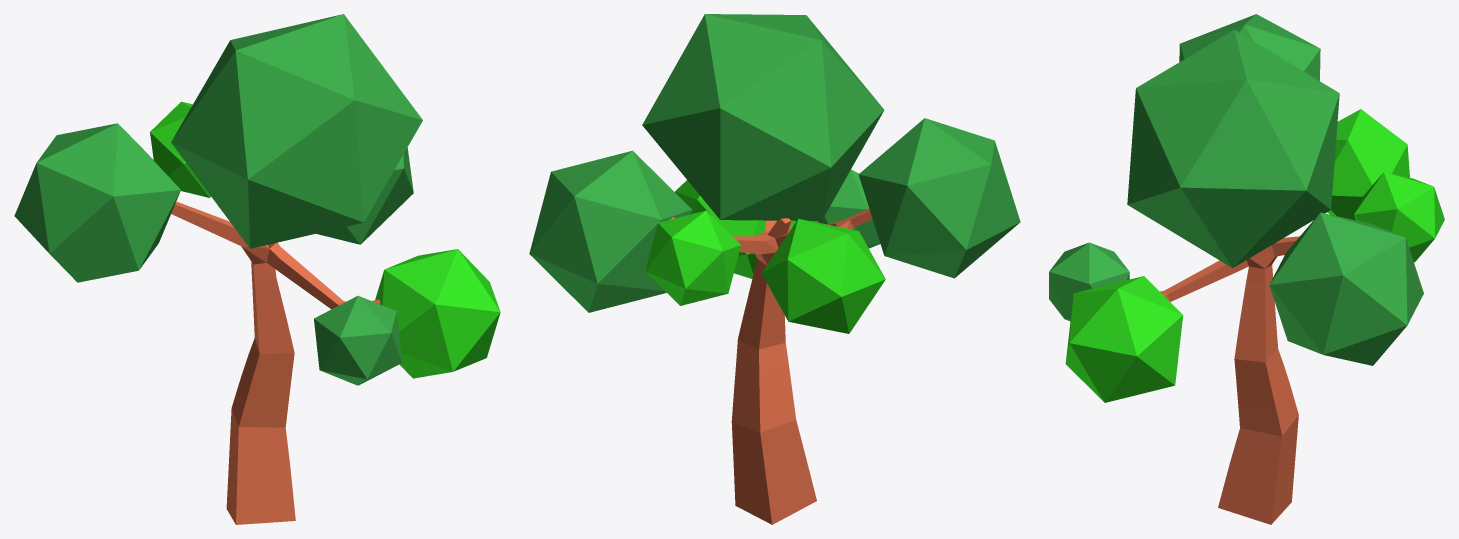
Rendered from arvore1.glb.
The picture shows the model from 3 angles, left to right: view 1: azimuth 30°, elevation 25°; view 2: azimuth 150°, elevation 25°; view 3: azimuth 270°, elevation 25°; orthographic projection. The views are drawn at different scales.
Parts seen in each view (by area): view 1: Icosphere.006, Icosphere.005, Arvore 2, Icosphere.001, Icosphere, Icosphere.002, Icosphere.003; view 2: Icosphere.006, Icosphere.005, Icosphere.002, Arvore 2, Icosphere.004, Icosphere.003, Icosphere.001, Icosphere; view 3: Icosphere.006, Icosphere.002, Arvore 2, Icosphere.001, Icosphere.004, Icosphere.003, Icosphere, Icosphere.005.
Boxes of the visible parts, left/top/right/bottom form: Icosphere.006: left=171, top=14, right=422, bottom=248; Icosphere.005: left=14, top=123, right=180, bottom=282; Arvore 2: left=171, top=201, right=380, bottom=524; Icosphere.001: left=375, top=249, right=500, bottom=378; Icosphere: left=314, top=295, right=402, bottom=385; Icosphere.002: left=316, top=147, right=413, bottom=244; Icosphere.003: left=150, top=101, right=210, bottom=197; Icosphere.006: left=642, top=14, right=884, bottom=220; Icosphere.005: left=858, top=118, right=1020, bottom=278; Icosphere.002: left=529, top=150, right=692, bottom=312; Arvore 2: left=670, top=208, right=872, bottom=524; Icosphere.004: left=761, top=218, right=885, bottom=333; Icosphere.003: left=645, top=210, right=741, bottom=305; Icosphere.001: left=675, top=180, right=796, bottom=278; Icosphere: left=818, top=169, right=880, bottom=248; Icosphere.006: left=1127, top=30, right=1339, bottom=267; Icosphere.002: left=1269, top=212, right=1423, bottom=365; Arvore 2: left=1160, top=236, right=1299, bottom=524; Icosphere.001: left=1065, top=276, right=1183, bottom=402; Icosphere.004: left=1327, top=109, right=1409, bottom=220; Icosphere.003: left=1354, top=172, right=1444, bottom=262; Icosphere: left=1049, top=242, right=1129, bottom=321; Icosphere.005: left=1179, top=14, right=1320, bottom=80.
Size of the model in its own units: 8.28 by 9.2 by 7.08.
